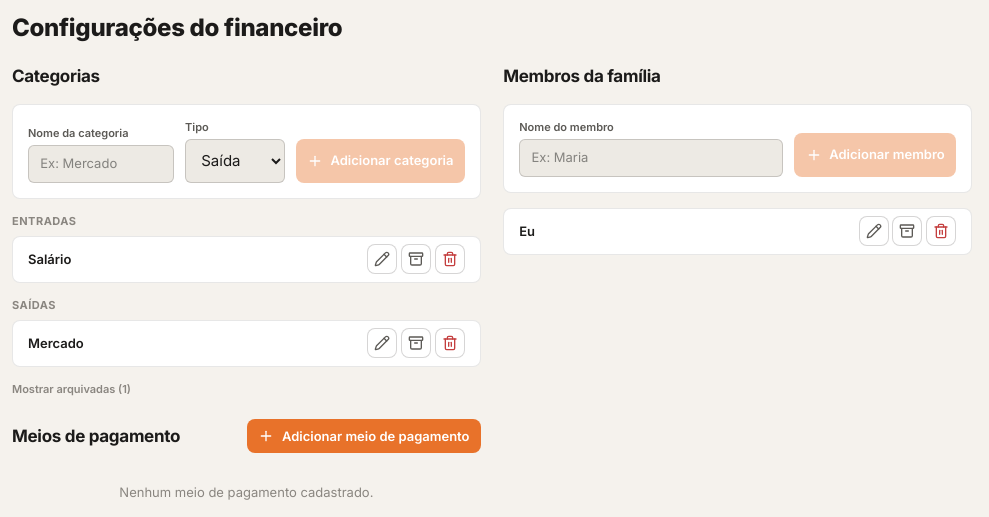
Test: FinanceSettingsPage › archives a category from the list
Click the button named "Arquivar Mercado" at (416, 343), box [401,328,431,358]
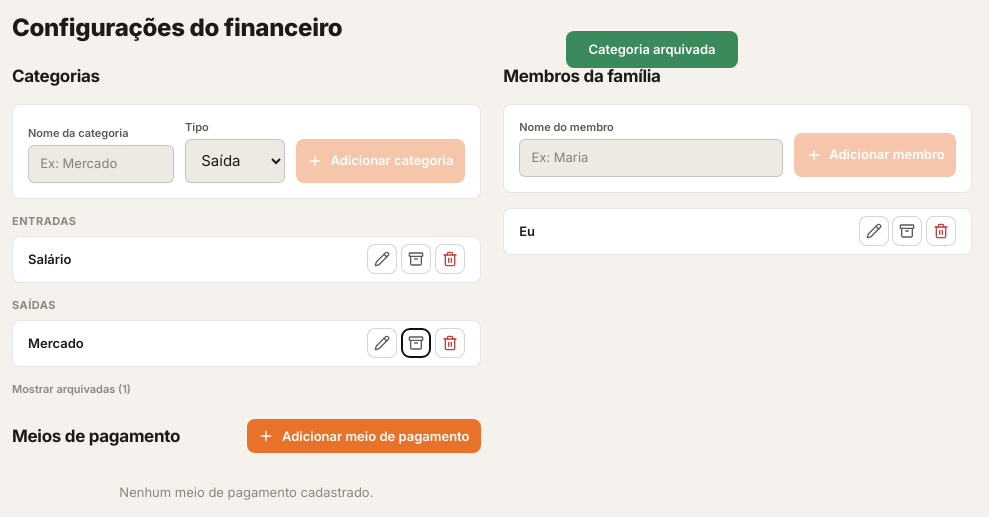
Expected: the message reads "Categoria arquivada", [588,41,716,57]
